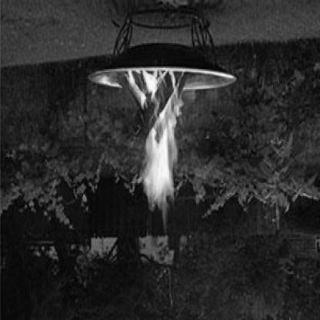Fire: (128, 73, 186, 229)
